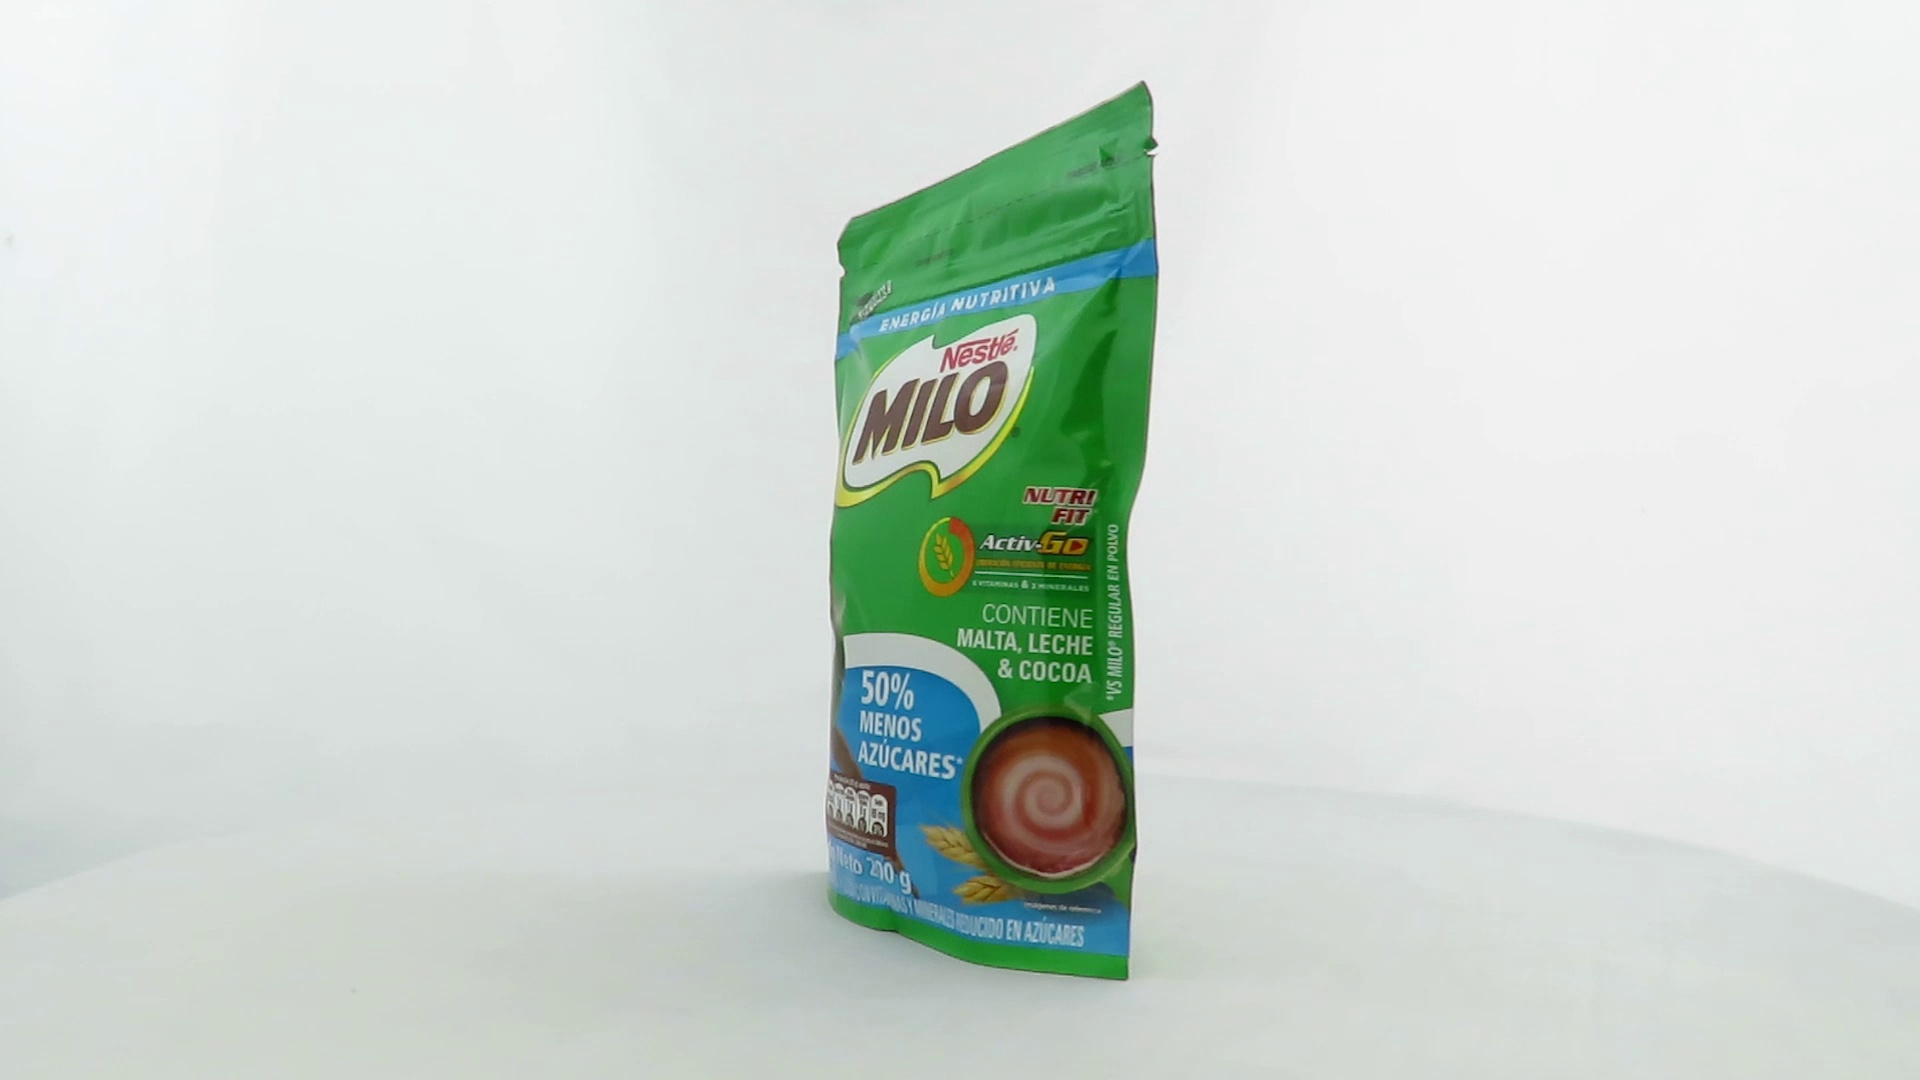COL0170205DYP20000: (766, 75, 1164, 986)
